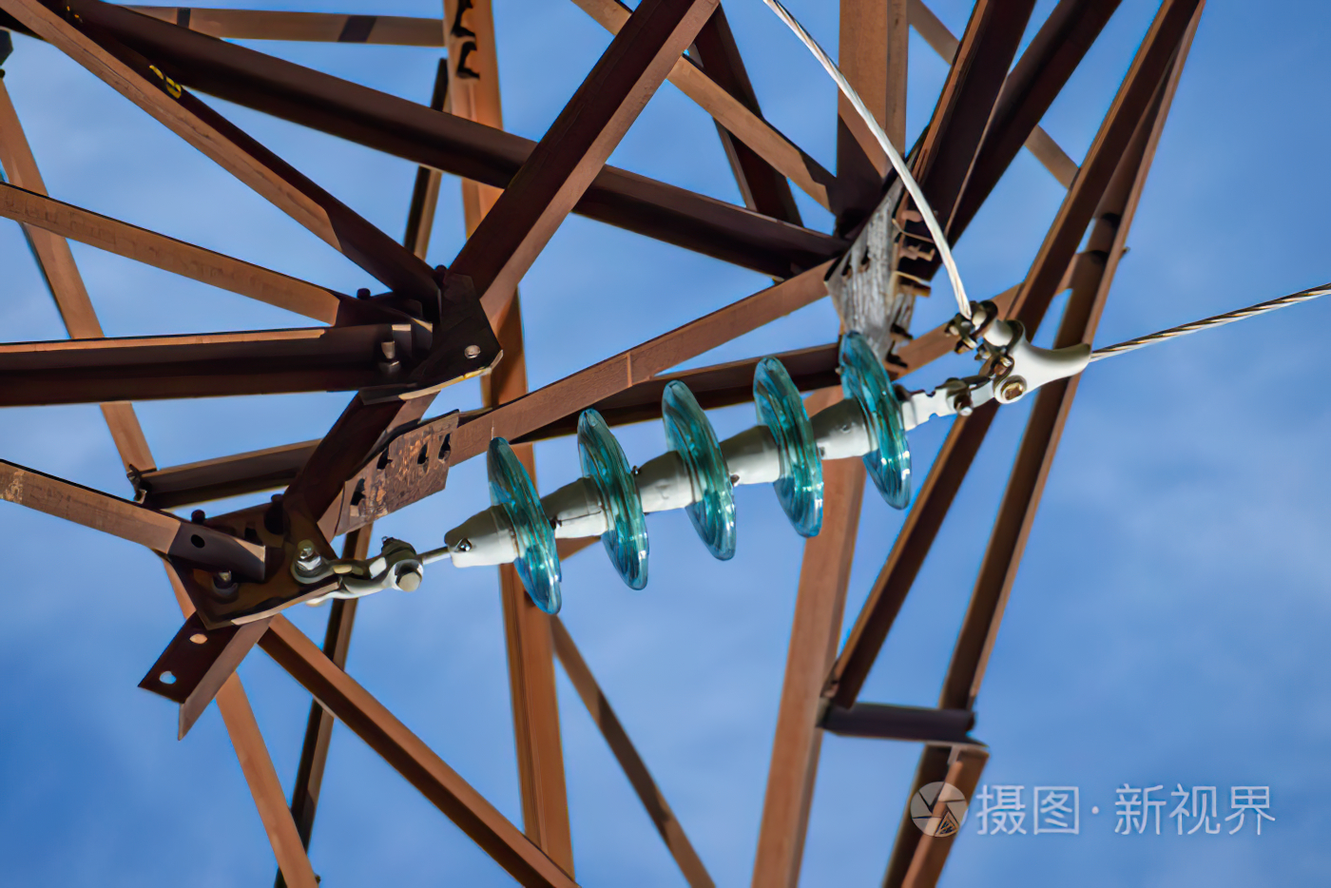insulator: (487, 331, 915, 617)
